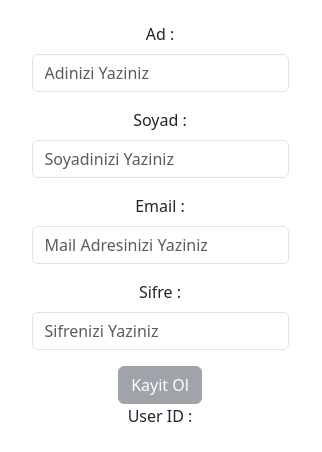
Tests › Error Messages › surname input test fail for 2 characters
Type "at" into the field with test id "surname-input" at (161, 159), box 32,140 -> 289,178
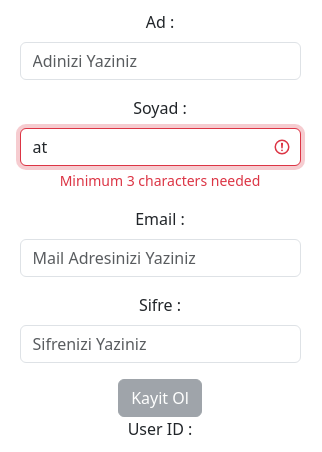
Expected: the text "Minimum 3 characters needed" is shown, 60,170 -> 260,190
